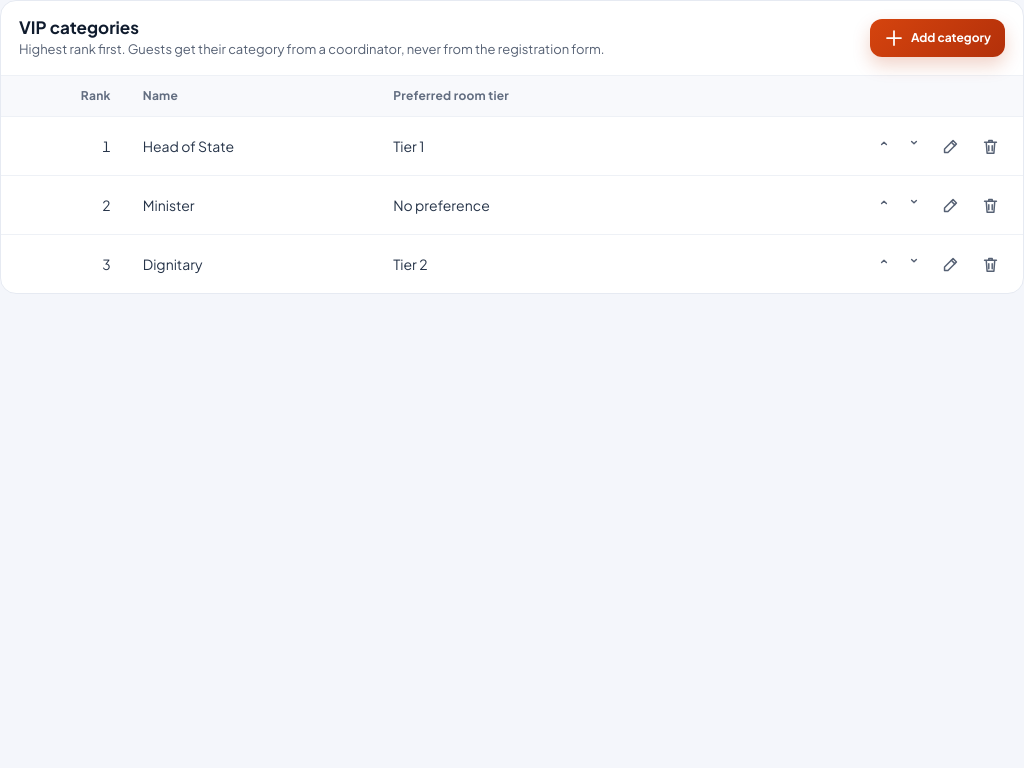
CategoriesTab › closes a dialog on Cancel without saving
Expected: the text "Minister" is shown, [127,176,377,234]
Click the button named "Delete Minister" at (990, 205), box [973,188,1007,222]
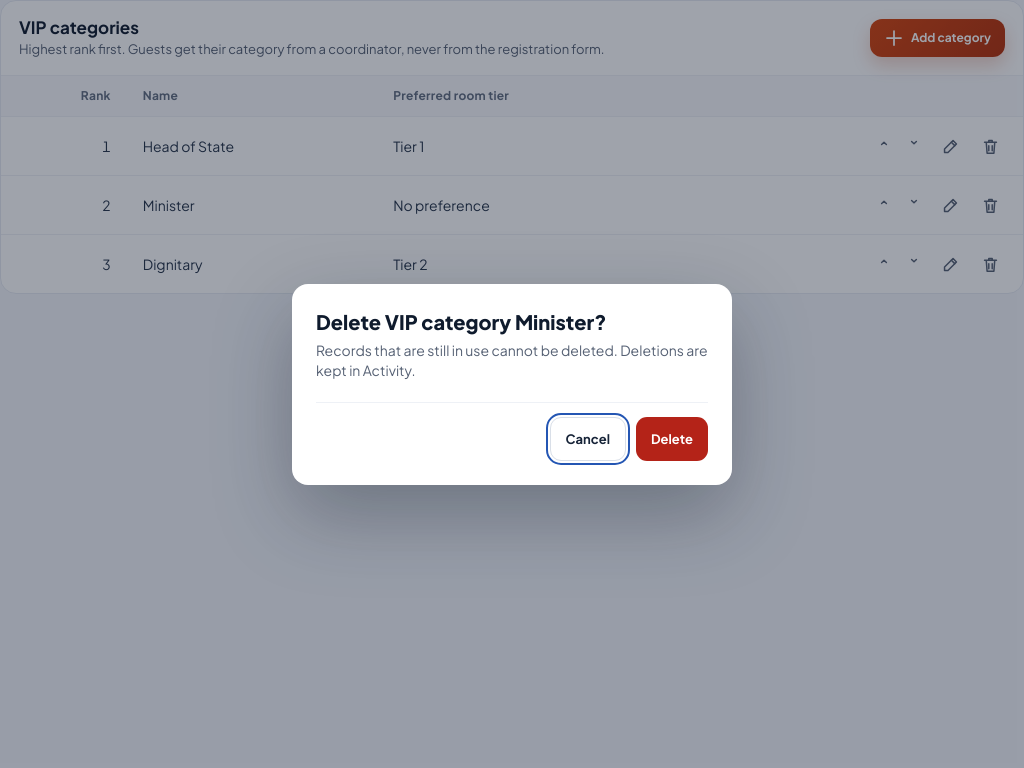
Click the button "Cancel" at (588, 438), box [550,416,626,460]
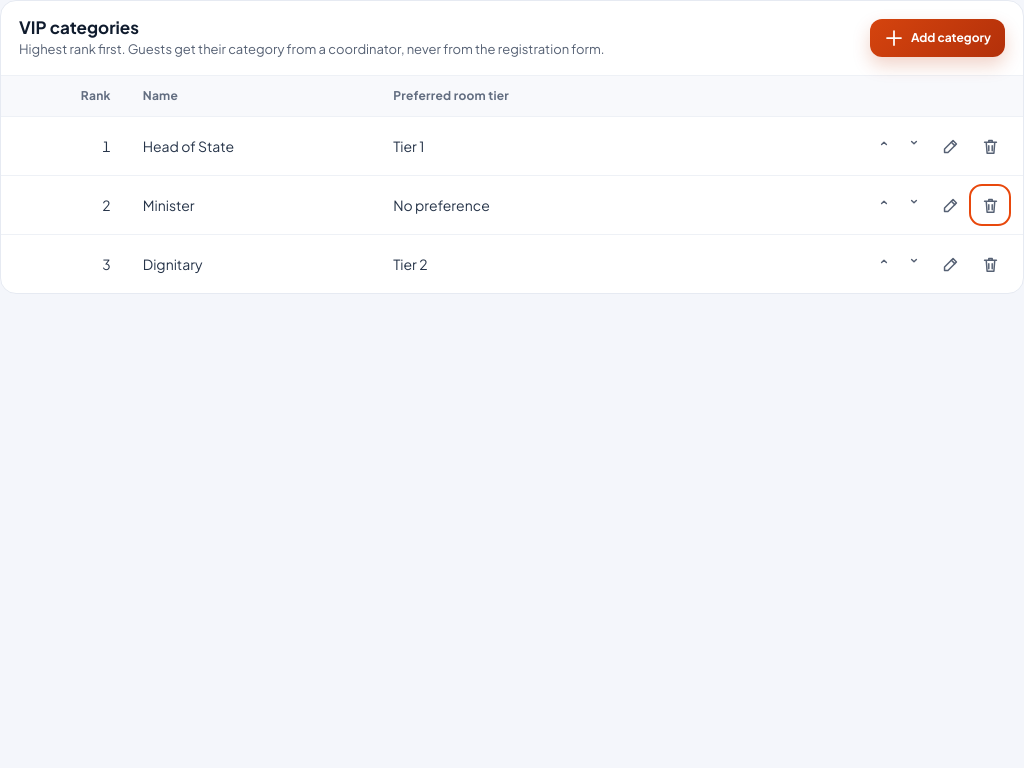
Expected: the dialog is gone
